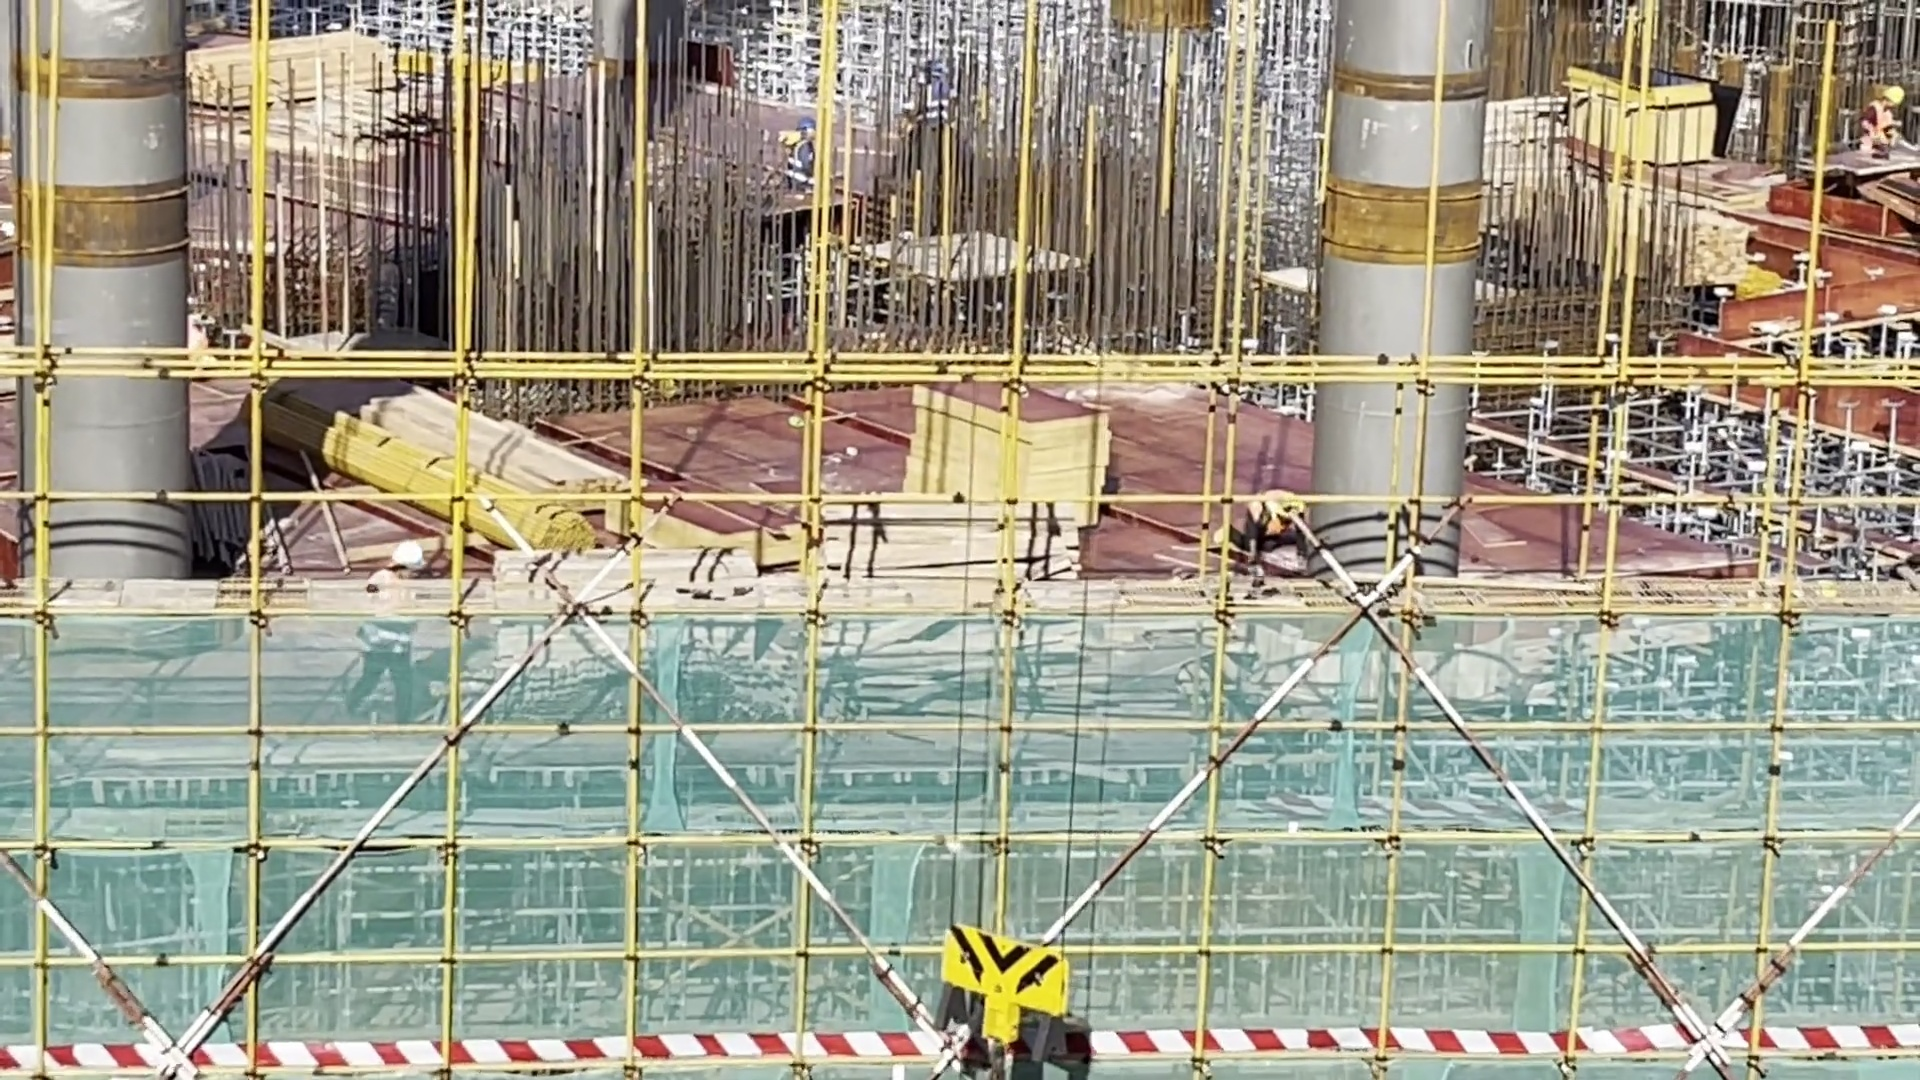board: (902, 374, 1112, 497), (1561, 50, 1716, 165)
hook: (942, 927, 1071, 1038)
person: (1233, 487, 1320, 566), (1856, 74, 1916, 165)
wood: (344, 403, 640, 545), (1685, 214, 1746, 284)
